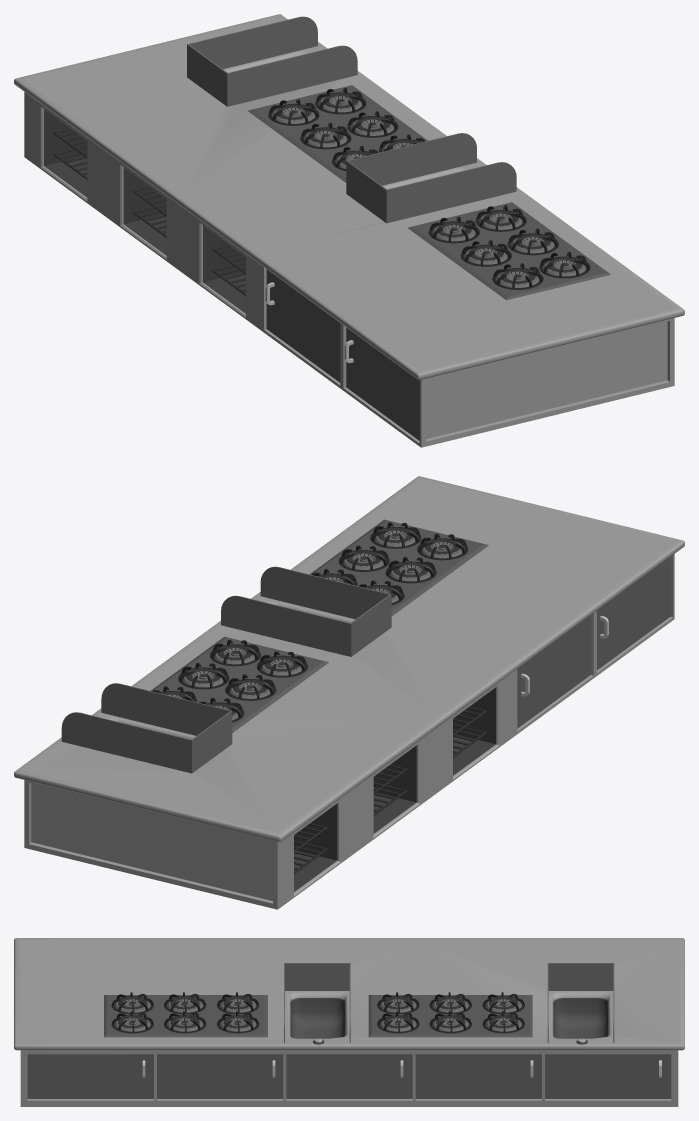
Rendered from Main Counter.fbx.
The picture shows the model from 3 angles, top to bottom: view 1: azimuth 30°, elevation 25°; view 2: azimuth 150°, elevation 25°; view 3: azimuth 270°, elevation 25°; orthographic projection. The views are drawn at different scales.
Visible parts, largest first — view 1: Main Counter; view 2: Main Counter; view 3: Main Counter.
Part boxes in pixels (x1=…): Main Counter: x1=14, y1=14, x2=684, y2=447; Main Counter: x1=14, y1=476, x2=684, y2=909; Main Counter: x1=14, y1=938, x2=684, y2=1106.
Size of the model in its own units: 223 by 87.97 by 584.
